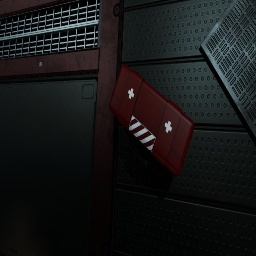FirstAidBox ,: (109, 64, 194, 177)
